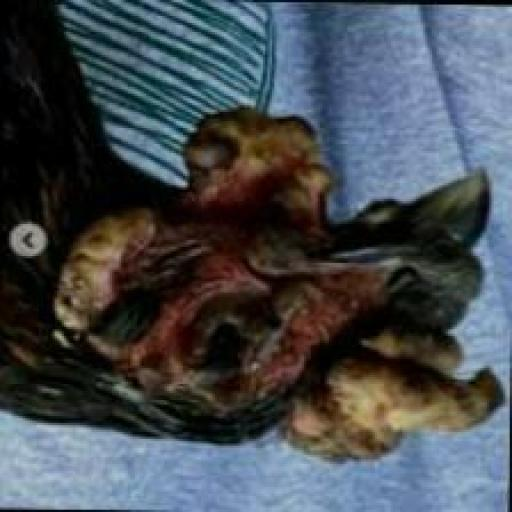disease: (4, 100, 510, 474)
